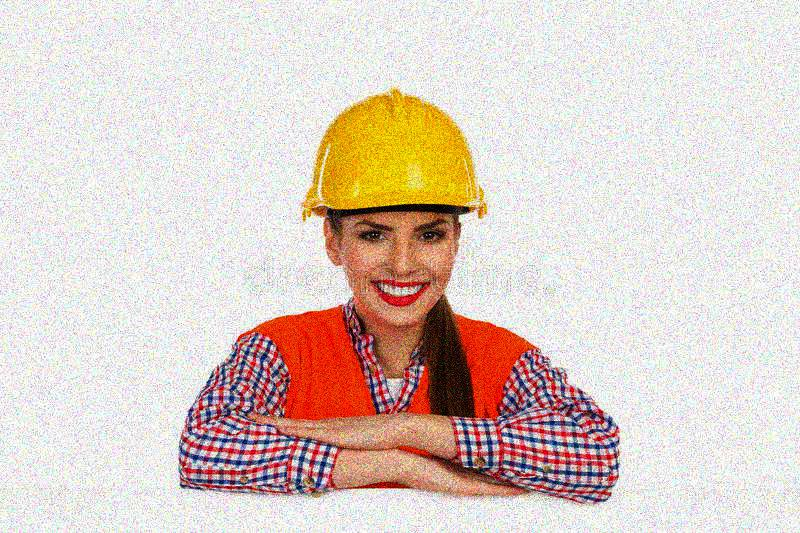helmet: (301, 88, 489, 325)
